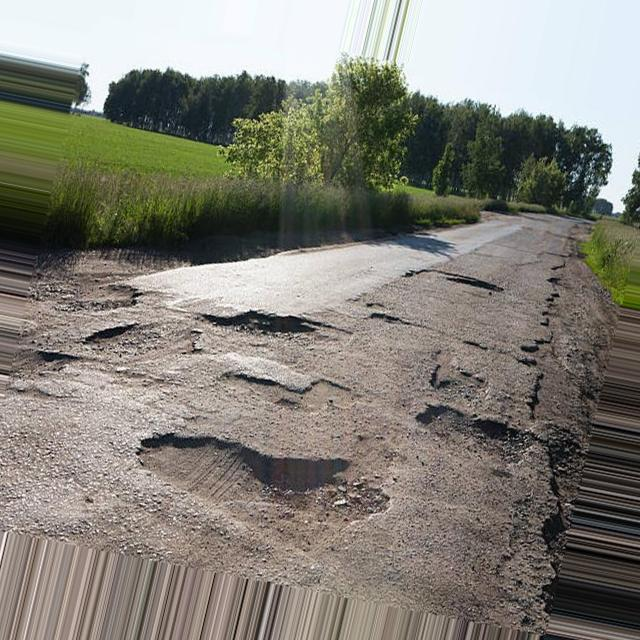Lubang: (139, 436, 393, 520), (192, 309, 354, 360), (414, 403, 529, 462), (85, 321, 193, 360)
